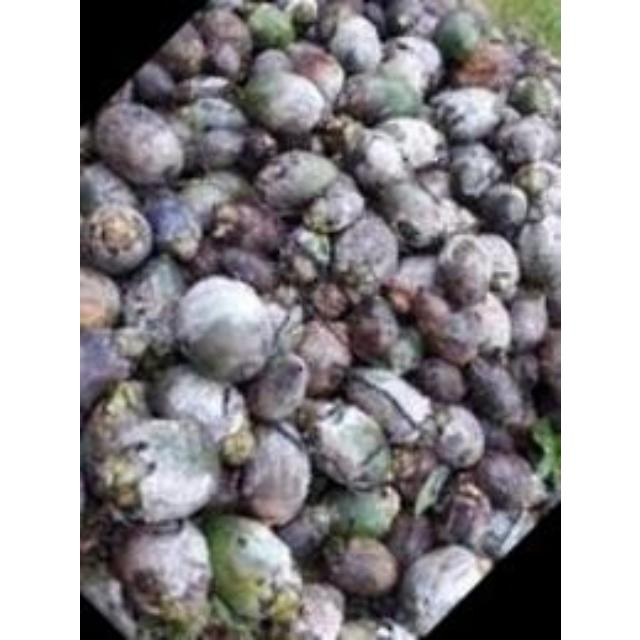damaged: (110, 519, 212, 629), (394, 543, 484, 637), (180, 289, 274, 377), (306, 400, 396, 490), (234, 422, 314, 522), (148, 365, 246, 445), (342, 368, 434, 448), (236, 62, 330, 140), (371, 178, 453, 252), (172, 95, 252, 169), (254, 149, 340, 213), (122, 258, 188, 334), (291, 319, 354, 397), (210, 196, 286, 258), (332, 213, 396, 284), (426, 86, 504, 144), (245, 355, 309, 425), (320, 485, 398, 539), (344, 294, 404, 364), (339, 72, 418, 124), (138, 192, 202, 256), (371, 118, 443, 172), (433, 478, 491, 544), (192, 6, 250, 72), (378, 34, 444, 92), (301, 176, 367, 234), (176, 171, 244, 227), (445, 144, 505, 206), (426, 405, 484, 469), (466, 232, 520, 294), (389, 444, 441, 504), (212, 246, 278, 292), (473, 180, 529, 232), (498, 115, 556, 165), (383, 514, 433, 568), (412, 355, 463, 403), (507, 294, 547, 350), (508, 160, 558, 204), (310, 280, 352, 320), (506, 353, 542, 395), (266, 276, 306, 312), (479, 424, 517, 458), (384, 284, 416, 316)
